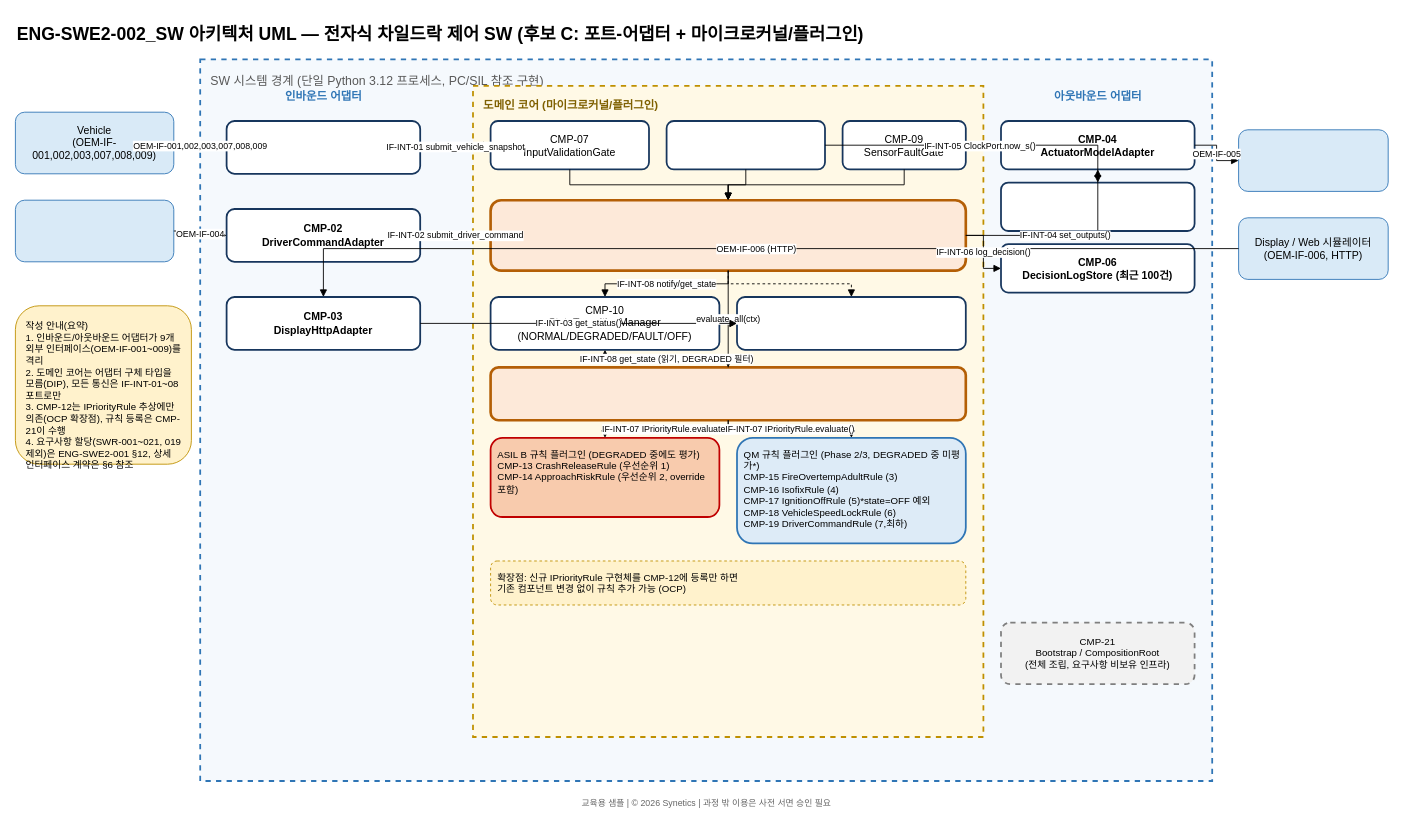
Some shapes in this 1404 by 831 pixel diagram are drawn without their labels. Each missing label, with the centre of its shape:
Actuator model (OEM-IF-005): the point at 1313,160
CMP-01 VehicleSignalAdapter: the point at 323,147
CMP-05 SimulatedClockAdapter (ClockPort): the point at 1097,206
CMP-08 FreshnessMonitor: the point at 745,145
CMP-11 [마이크로커널] PriorityDecisionEngine (평가주기 오케스트레이터): the point at 728,234
CMP-12 [레지스트리, OCP 확장점] PriorityRuleChain (IPriorityRule 순회, 첫매치우선): the point at 728,393
CMP-20 StatusQueryService: the point at 851,323
Driver (OEM-IF-004): the point at 94,230
